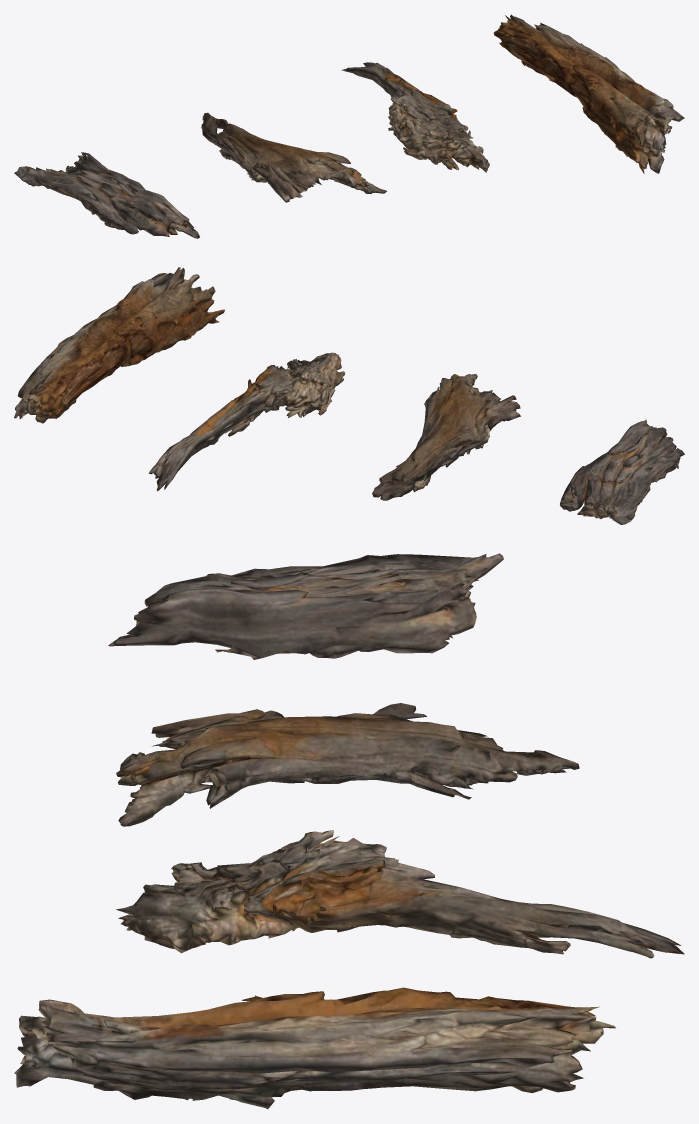
File: bark_debris_01.glb
3 views of the same model, one above another, from view 1: azimuth 30°, elevation 25°; view 2: azimuth 150°, elevation 25°; view 3: azimuth 270°, elevation 25° (orthographic). The views are drawn at different scales.
Visible parts, largest first — view 1: bark_debris_01_d, bark_debris_01_a, bark_debris_01_b, bark_debris_01_c; view 2: bark_debris_01_d, bark_debris_01_b, bark_debris_01_c, bark_debris_01_a; view 3: bark_debris_01_d, bark_debris_01_c, bark_debris_01_a, bark_debris_01_b.
Boxes of the visible parts, x1,y1,x2,y2 form: bark_debris_01_d: (493, 14, 684, 173); bark_debris_01_a: (14, 152, 199, 238); bark_debris_01_b: (201, 112, 386, 202); bark_debris_01_c: (341, 62, 489, 172); bark_debris_01_d: (14, 267, 224, 423); bark_debris_01_b: (372, 374, 520, 500); bark_debris_01_c: (148, 352, 345, 491); bark_debris_01_a: (560, 419, 684, 524); bark_debris_01_d: (14, 987, 615, 1109); bark_debris_01_c: (116, 830, 684, 958); bark_debris_01_a: (108, 553, 503, 659); bark_debris_01_b: (116, 703, 579, 826).
Bounding box in the file's own units: 1.21 × 0.1111 × 0.673.
1 material, 1 textured.
